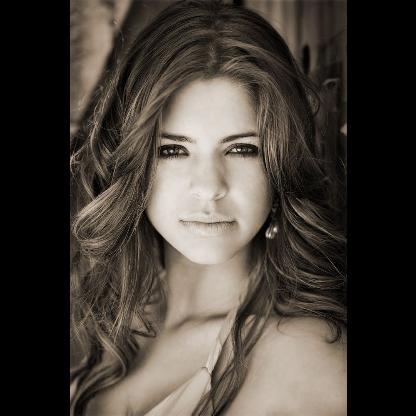Female: (142, 80, 270, 264)
